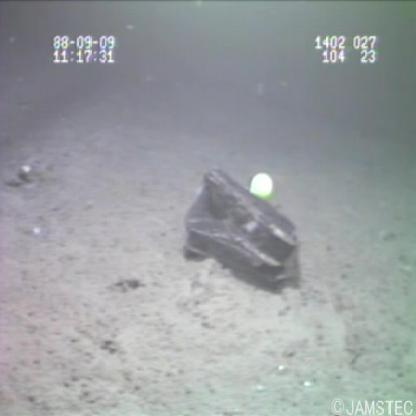Rác: (175, 163, 314, 298)
